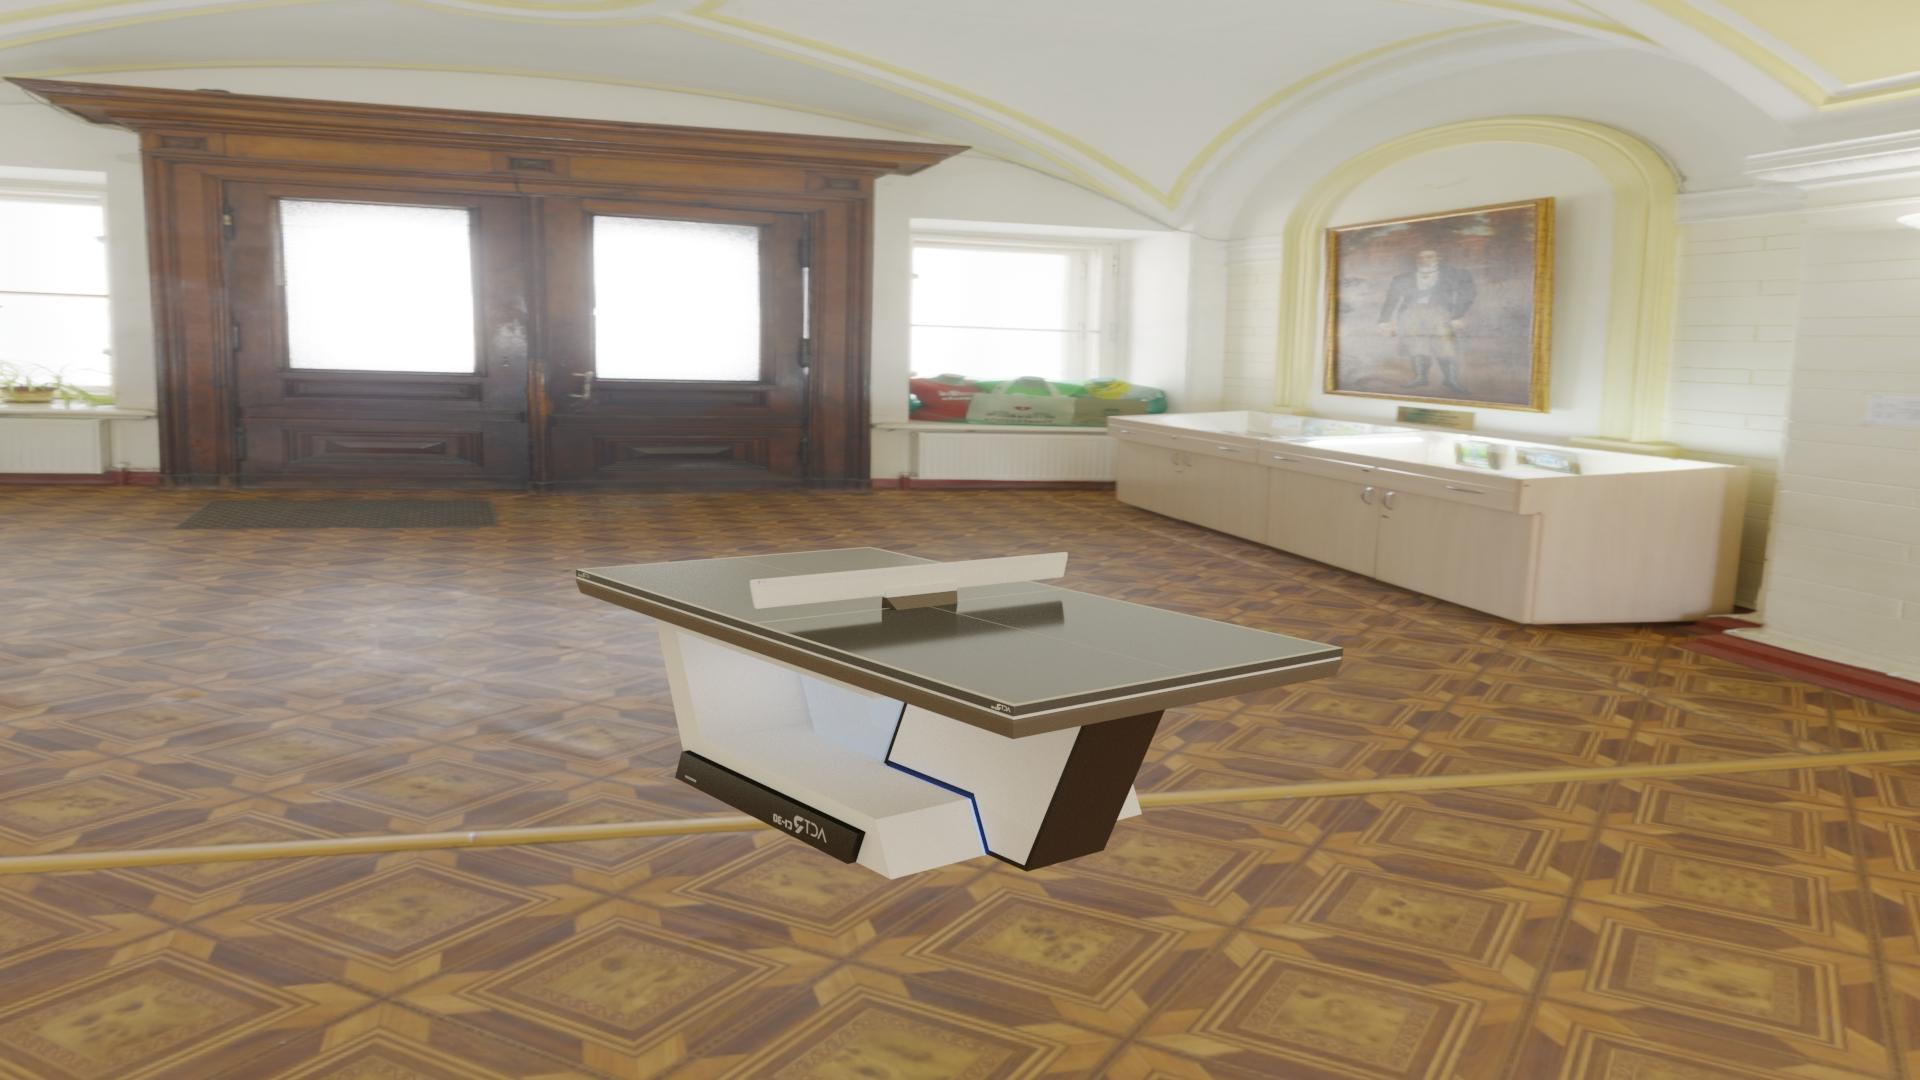table: (583, 547, 1336, 704)
